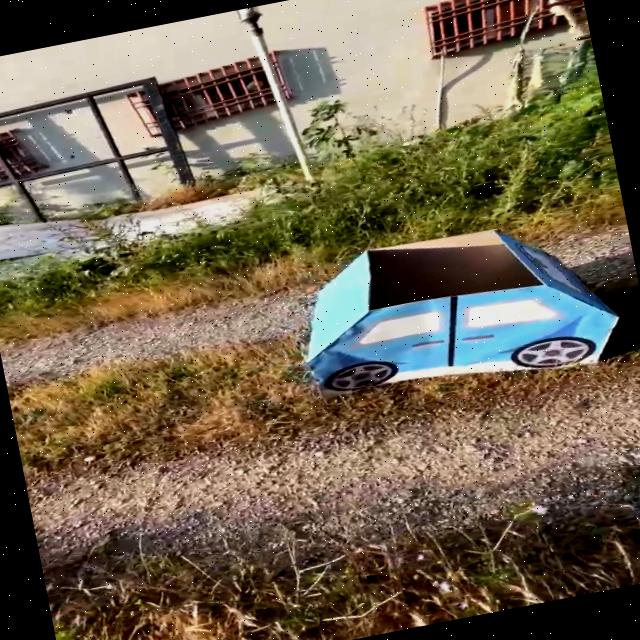blue_car: (233, 183, 640, 450)
